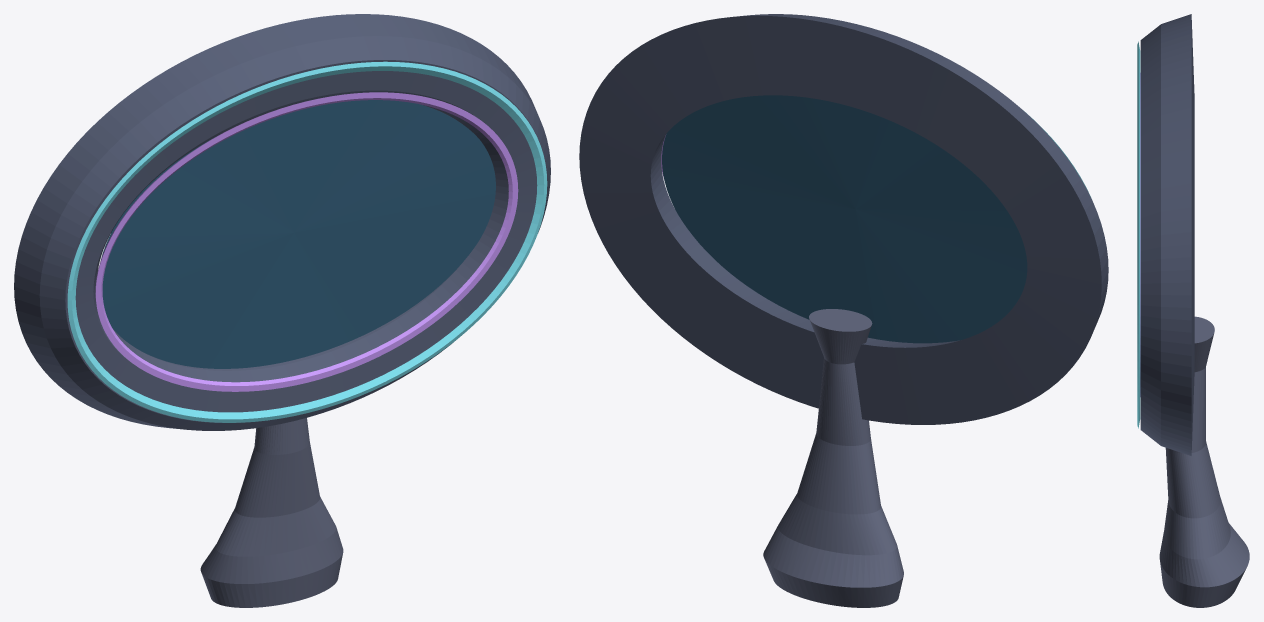
File: hexcore_archive_console.glb
3 renders of one model, left to right at view 1: azimuth 30°, elevation 25°; view 2: azimuth 150°, elevation 25°; view 3: azimuth 270°, elevation 25°, orthographic. The views are drawn at different scales.
Visible parts, largest first — view 1: Recessed sapphire glass optical surface, Obsidian continuous forged structural bezel, Sculpted fluid profile neck and pedestal, Cyan precision fiber optic inlay, Inner violet secondary illumination; view 2: Obsidian continuous forged structural bezel, Recessed sapphire glass optical surface, Sculpted fluid profile neck and pedestal; view 3: Obsidian continuous forged structural bezel, Sculpted fluid profile neck and pedestal, Cyan precision fiber optic inlay, Inner violet secondary illumination.
Part boxes in pixels (<box>): Recessed sapphire glass optical surface: <box>101,100,495,368</box>; Obsidian continuous forged structural bezel: <box>14,14,550,430</box>; Sculpted fluid profile neck and pedestal: <box>200,418,343,607</box>; Cyan precision fiber optic inlay: <box>67,61,547,422</box>; Inner violet secondary illumination: <box>95,92,518,391</box>; Obsidian continuous forged structural bezel: <box>579,14,1108,424</box>; Recessed sapphire glass optical surface: <box>662,95,1027,343</box>; Sculpted fluid profile neck and pedestal: <box>763,309,903,607</box>; Obsidian continuous forged structural bezel: <box>1140,14,1194,455</box>; Sculpted fluid profile neck and pedestal: <box>1159,316,1249,607</box>; Cyan precision fiber optic inlay: <box>1137,41,1140,428</box>; Inner violet secondary illumination: <box>1140,73,1140,396</box>.
Bounding box in the file's own units: 3.94 × 4.02 × 0.774.
